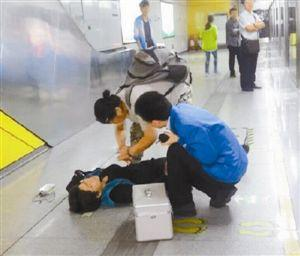fall: (63, 146, 237, 214)
